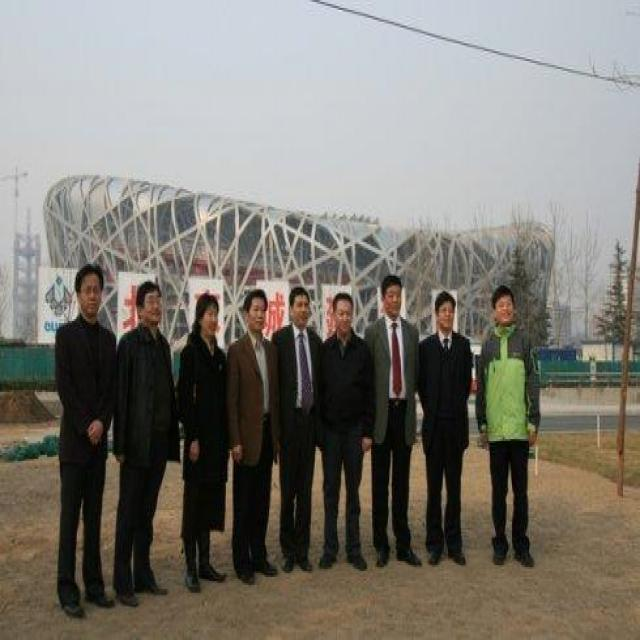no hat: (70, 260, 110, 323), (133, 276, 165, 334), (487, 280, 519, 328), (287, 280, 316, 328), (192, 295, 220, 341), (378, 272, 403, 320), (243, 289, 269, 335), (432, 287, 458, 333), (331, 289, 354, 337)
